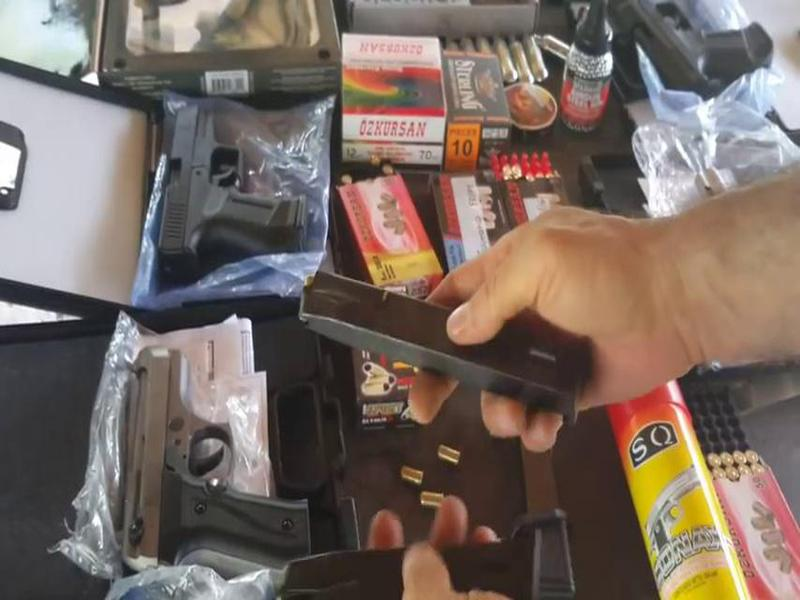Pistola: (90, 336, 329, 579), (153, 93, 317, 284)
